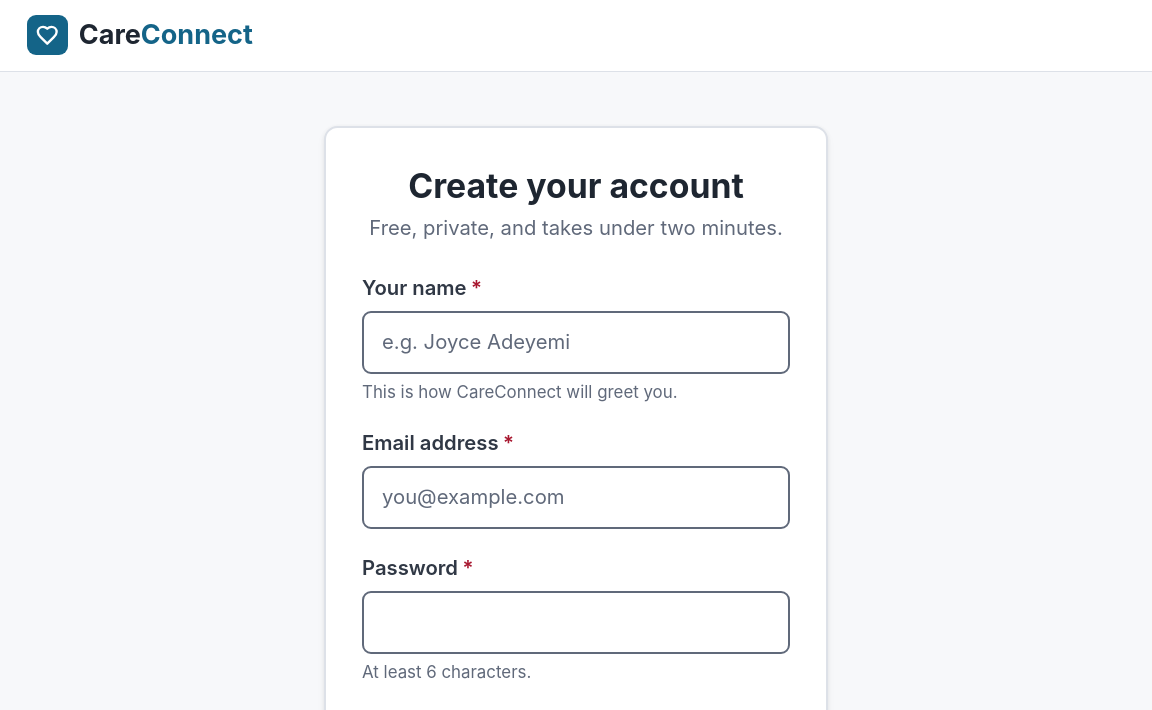
Test: sign-up and sign-in › signs a caregiver up and goes straight to the dashboard with no role step
Type "Joyce Adeyemi" into the field labelled "Your name*" at (576, 343), box 362,311 -> 790,374
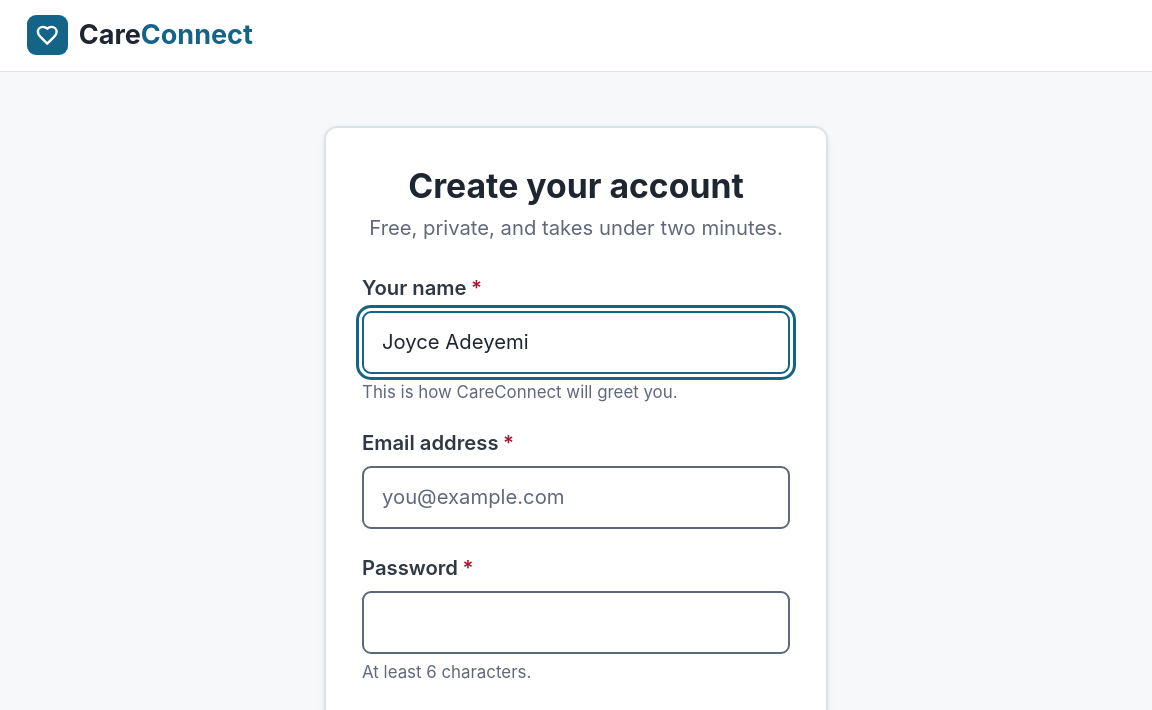
Type "joyce@example.com" into the field labelled "Email address*" at (576, 498), box 362,466 -> 790,529
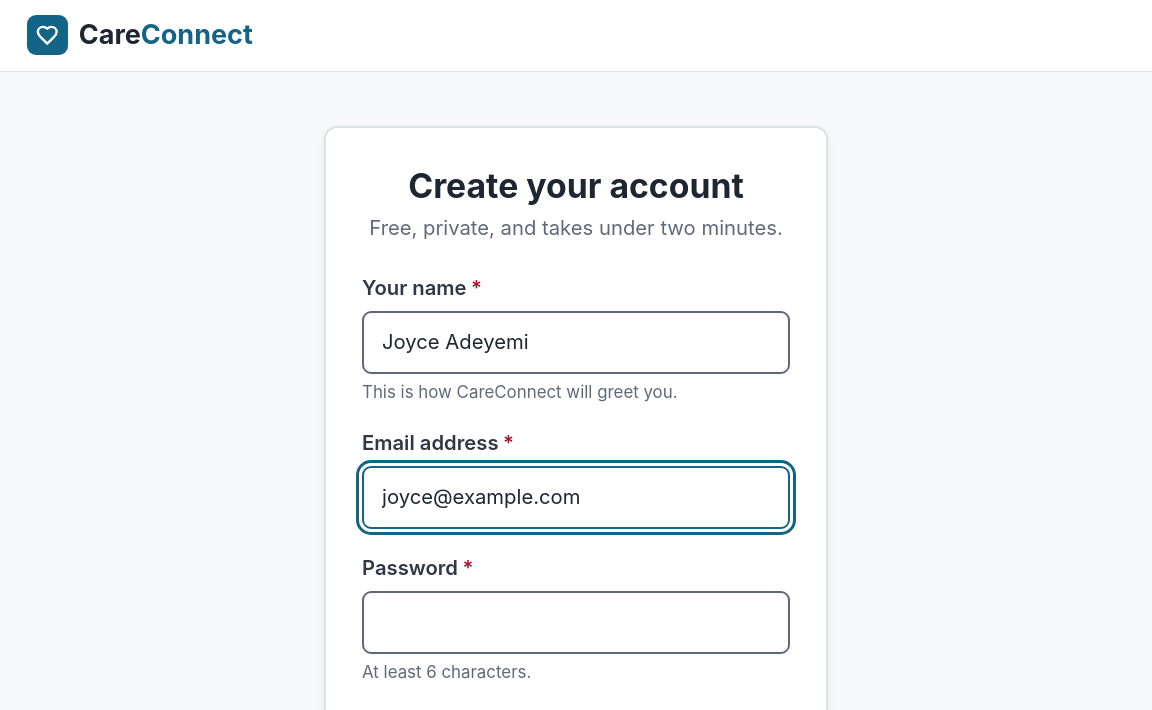
Type "demo-password" into the password field labelled "Password*" at (576, 623), box 362,591 -> 790,654
(page scrolled)
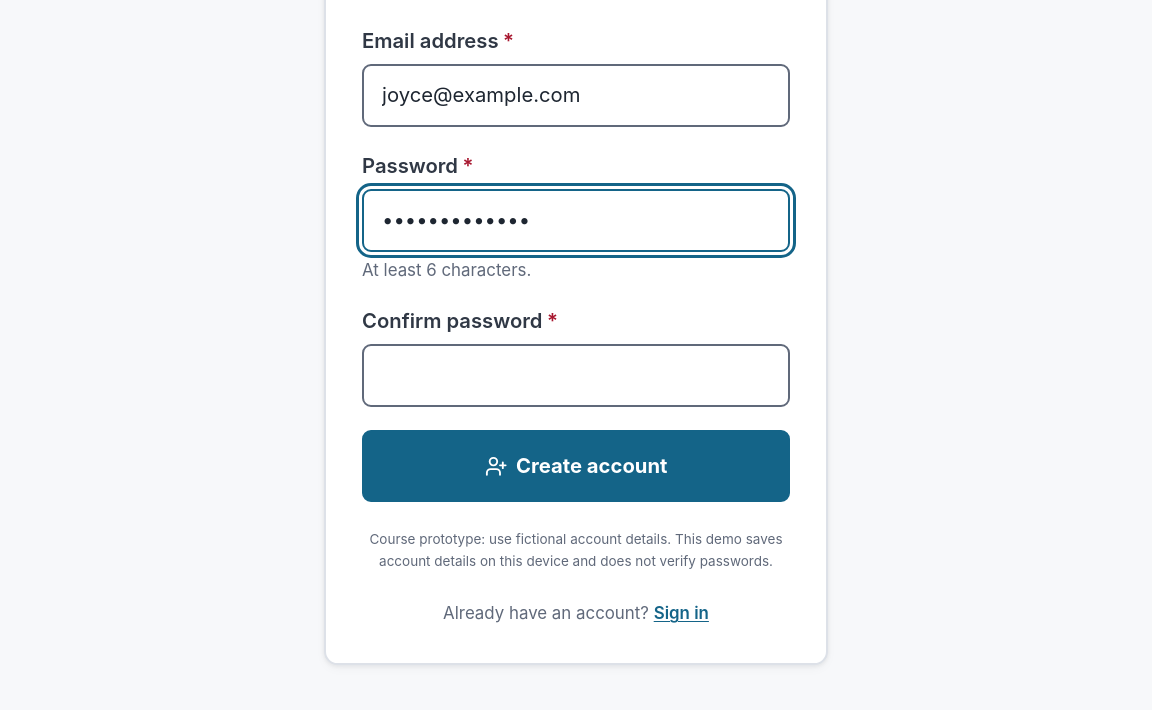
Type "demo-password" into the password field labelled "Confirm password*" at (576, 376), box 362,344 -> 790,407
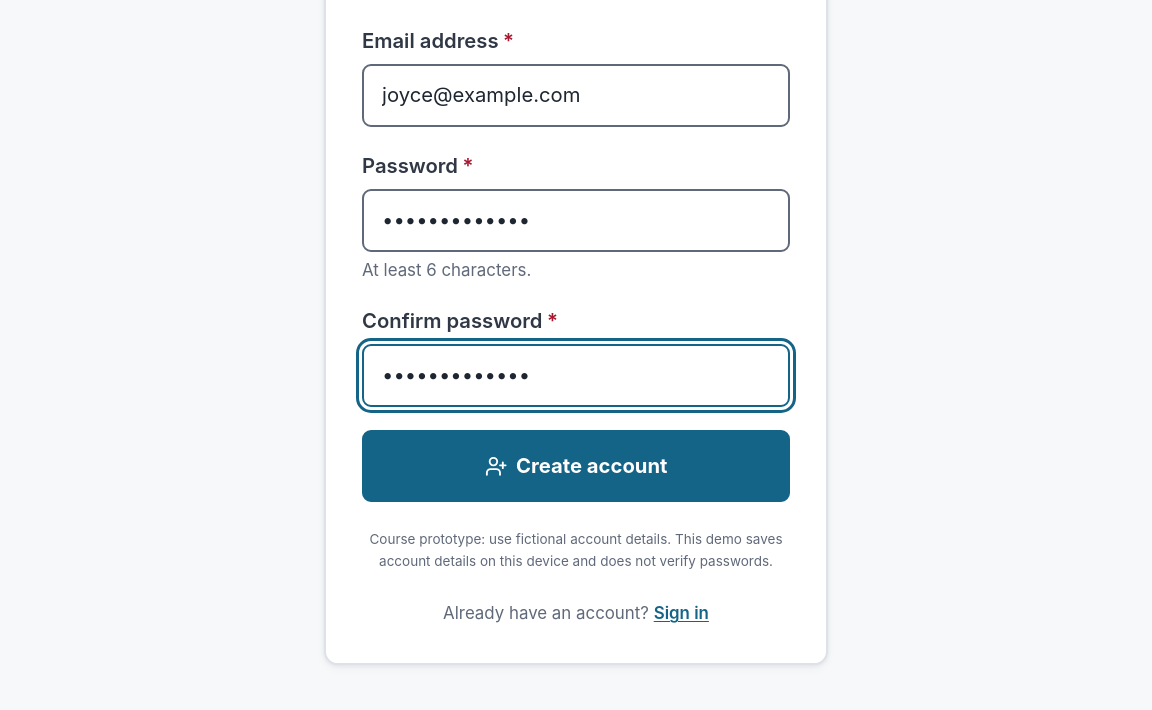
Click the button "Create account" at (576, 466), box 362,430 -> 790,502
(page scrolled)
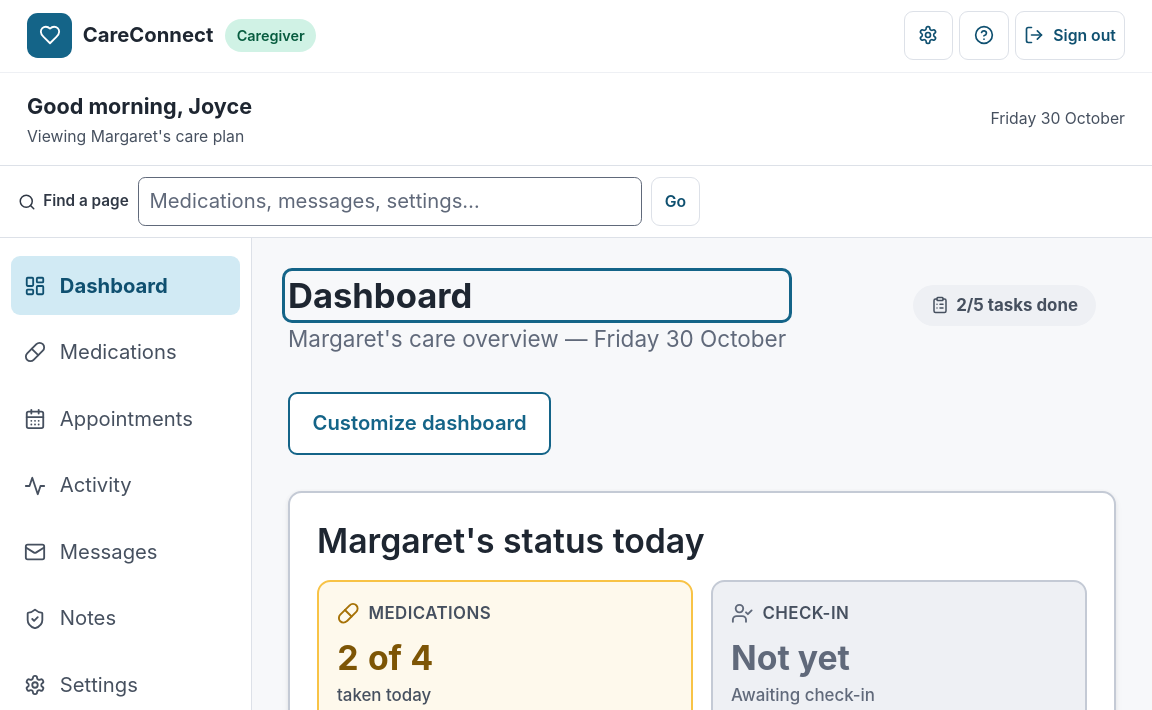
Now the heading "Dashboard" is shown, box 288,275 -> 472,316
